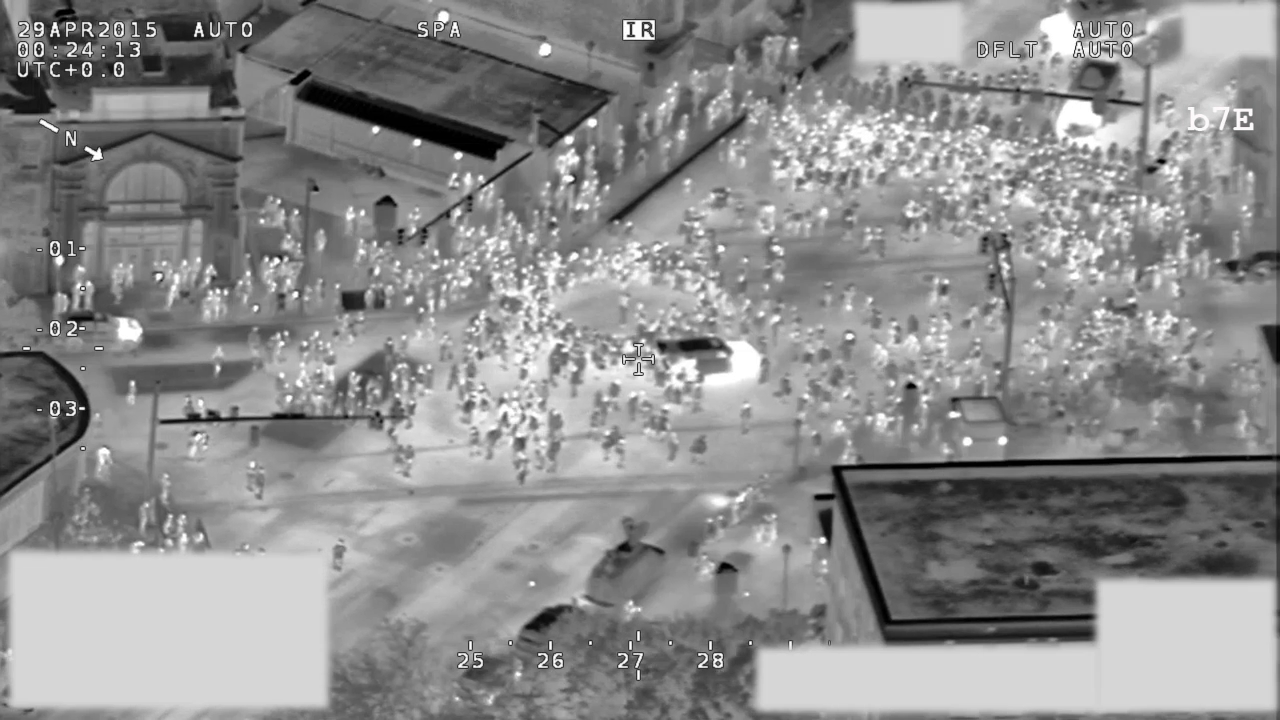vehicle: (576, 517, 675, 610), (651, 329, 768, 392), (1051, 60, 1132, 148), (1035, 1, 1159, 53), (446, 651, 533, 711), (514, 597, 588, 665), (52, 310, 154, 359), (1217, 242, 1280, 289)
